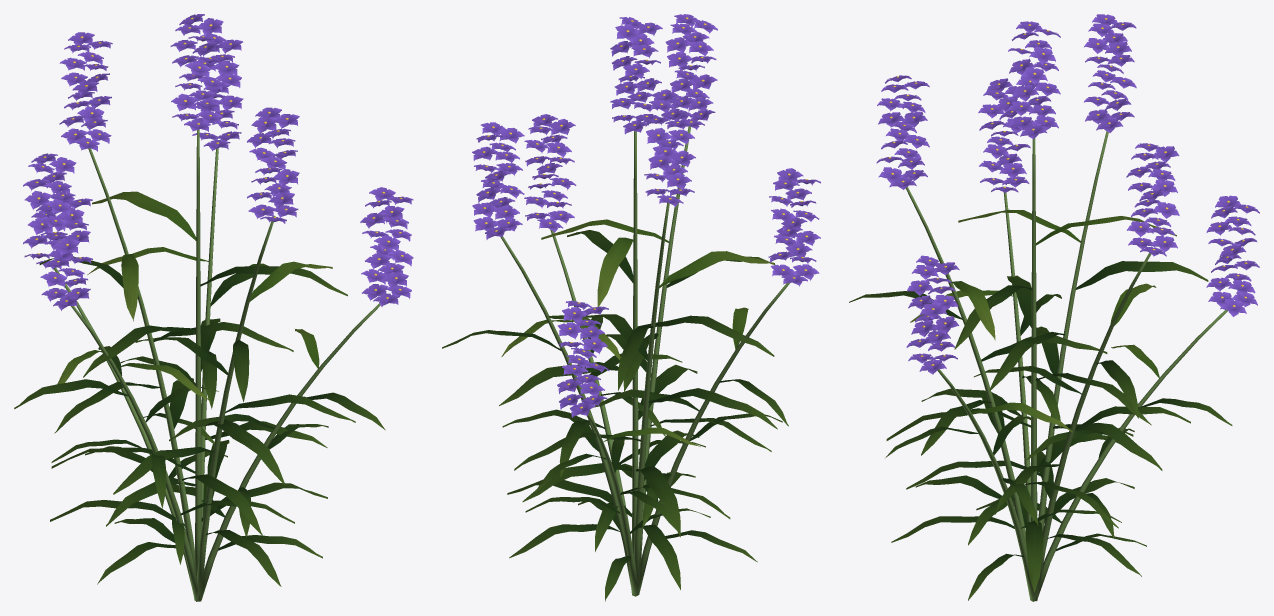
Rendered from lavender-10-lod.glb.
3 renders of one model, left to right at view 1: azimuth 30°, elevation 25°; view 2: azimuth 150°, elevation 25°; view 3: azimuth 270°, elevation 25°, orthographic.
Parts seen in each view (by area): view 1: lavender_stage_10_lavender_petal.019, lavender_stage_10_leaf_veins.019, lavender_stage_10_stem_fibres.019, lavender_stage_10_young_leaf.019, lavender_stage_10_pollen_granules.019; view 2: lavender_stage_10_lavender_petal.019, lavender_stage_10_leaf_veins.019, lavender_stage_10_stem_fibres.019, lavender_stage_10_young_leaf.019, lavender_stage_10_pollen_granules.019; view 3: lavender_stage_10_lavender_petal.019, lavender_stage_10_leaf_veins.019, lavender_stage_10_stem_fibres.019, lavender_stage_10_young_leaf.019, lavender_stage_10_pollen_granules.019.
Part boxes in pixels (x1=…): lavender_stage_10_lavender_petal.019: x1=23, y1=14, x2=413, y2=310; lavender_stage_10_leaf_veins.019: x1=14, y1=256, x2=385, y2=586; lavender_stage_10_stem_fibres.019: x1=54, y1=129, x2=380, y2=601; lavender_stage_10_young_leaf.019: x1=57, y1=191, x2=332, y2=401; lavender_stage_10_pollen_granules.019: x1=35, y1=17, x2=403, y2=301; lavender_stage_10_lavender_petal.019: x1=472, y1=14, x2=820, y2=417; lavender_stage_10_leaf_veins.019: x1=442, y1=230, x2=788, y2=601; lavender_stage_10_stem_fibres.019: x1=500, y1=126, x2=789, y2=596; lavender_stage_10_young_leaf.019: x1=501, y1=219, x2=774, y2=446; lavender_stage_10_pollen_granules.019: x1=482, y1=17, x2=808, y2=408; lavender_stage_10_lavender_petal.019: x1=876, y1=14, x2=1259, y2=374; lavender_stage_10_leaf_veins.019: x1=849, y1=261, x2=1232, y2=600; lavender_stage_10_stem_fibres.019: x1=906, y1=131, x2=1227, y2=601; lavender_stage_10_young_leaf.019: x1=910, y1=209, x2=1176, y2=432; lavender_stage_10_pollen_granules.019: x1=888, y1=18, x2=1248, y2=365.
Size of the model in its own units: 0.4045 by 0.6739 by 0.4383.
5 materials, 3 textured.
